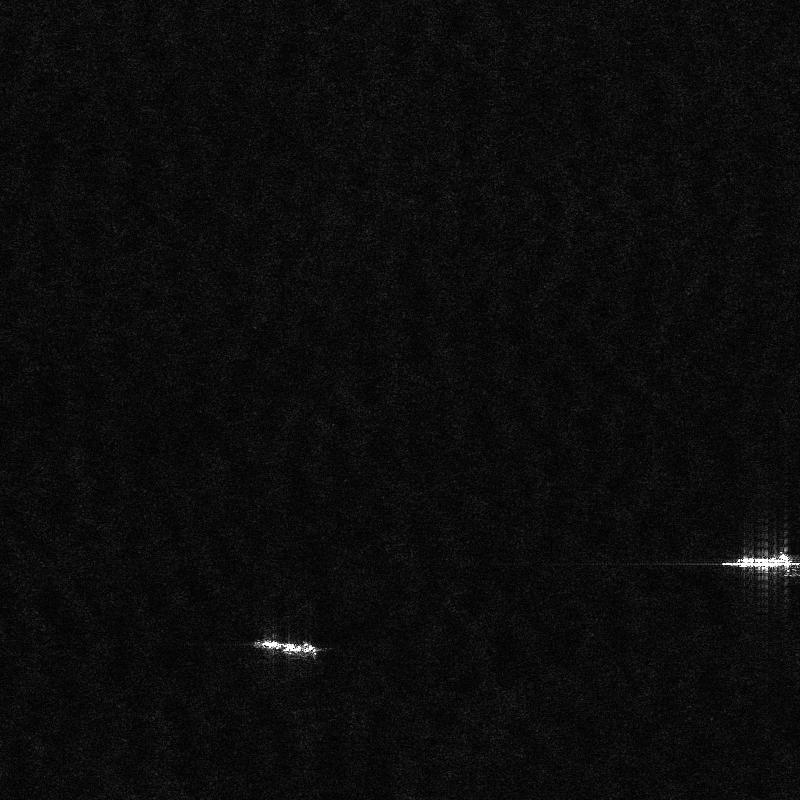ship: (721, 553, 799, 567), (254, 640, 316, 653)
